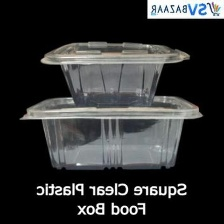plastic_box: (13, 87, 208, 177), (34, 33, 196, 111)
